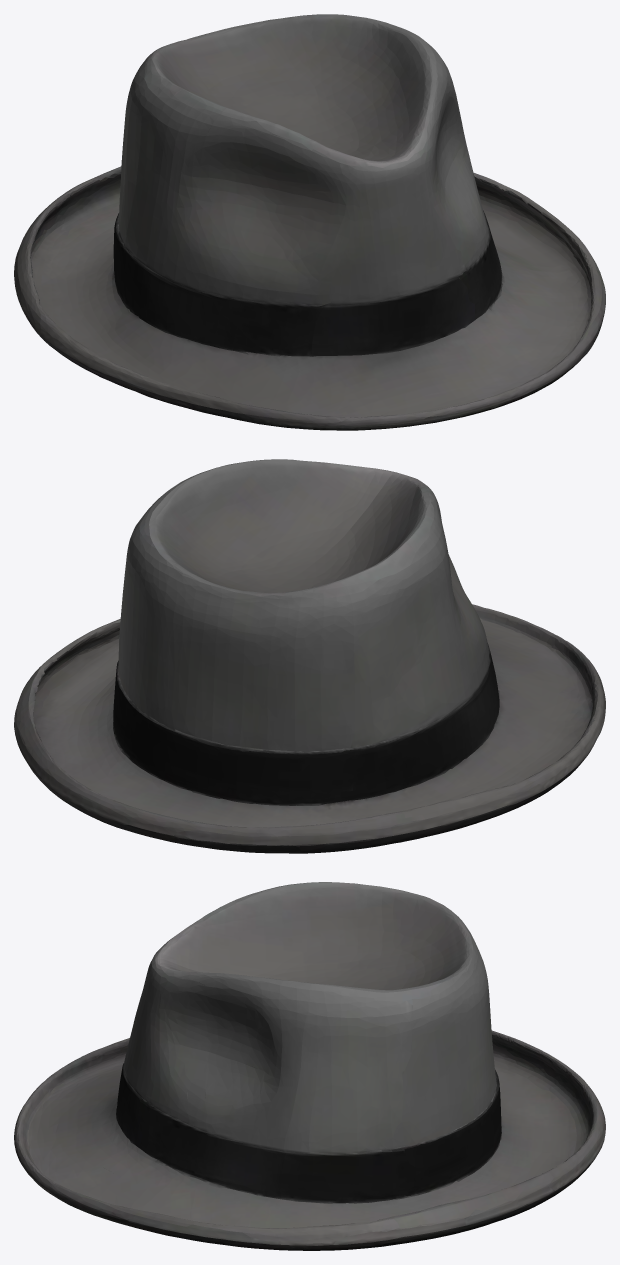
Rendered from fedora-low.glb.
The picture shows the model from 3 angles, top to bottom: view 1: azimuth 30°, elevation 25°; view 2: azimuth 150°, elevation 25°; view 3: azimuth 270°, elevation 25°; orthographic projection. The views are drawn at different scales.
Parts seen in each view (by area): view 1: geometry_0; view 2: geometry_0; view 3: geometry_0.
Part boxes in pixels (x1=…): geometry_0: x1=14, y1=14, x2=605, y2=430; geometry_0: x1=14, y1=459, x2=605, y2=853; geometry_0: x1=14, y1=882, x2=605, y2=1250.
Size of the model in its own units: 0.9127 by 0.3983 by 1.
1 material, 1 textured.
